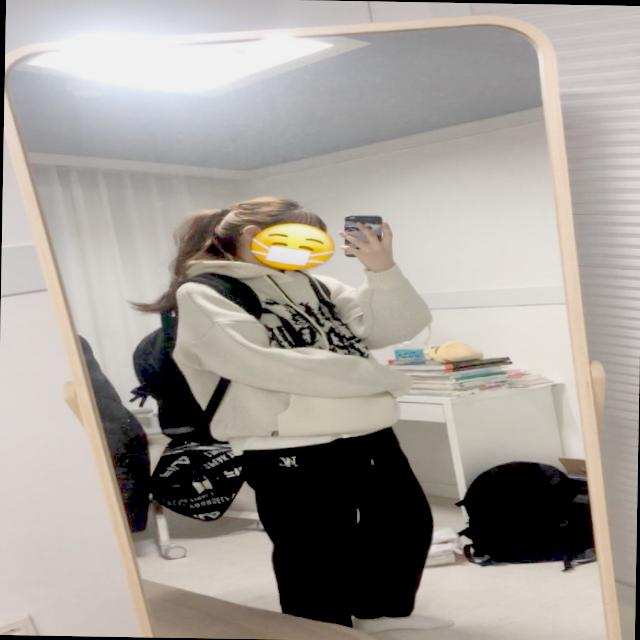hoodies: (160, 256, 430, 460)
trainingpants: (238, 428, 434, 628)
